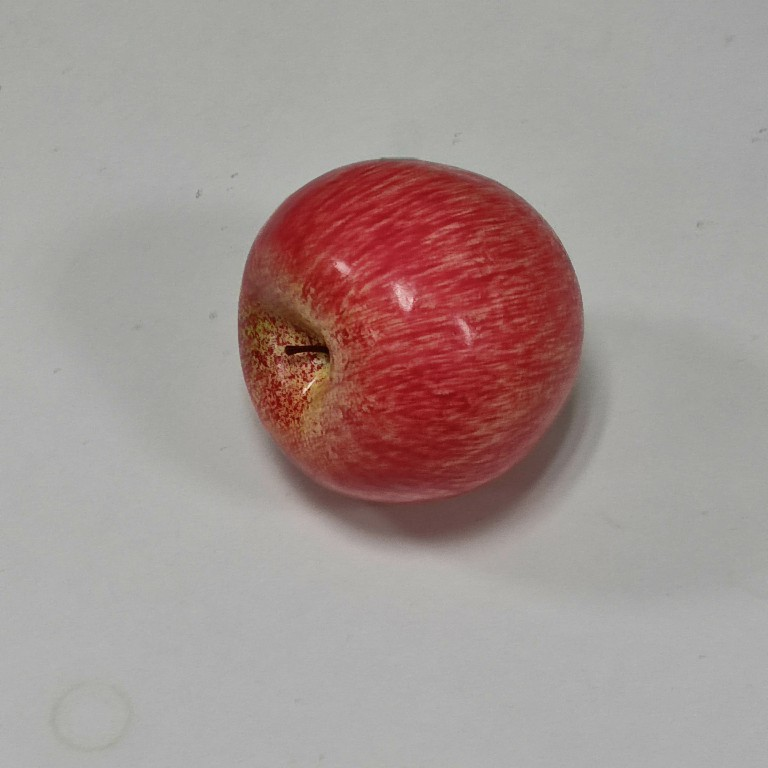fruit_apple: (230, 149, 593, 504)
